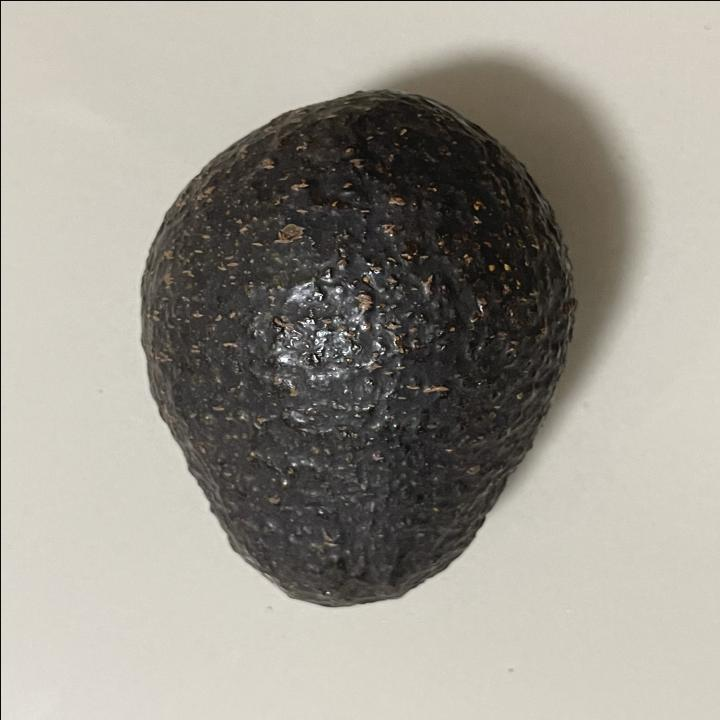Level1: (126, 81, 598, 622)
